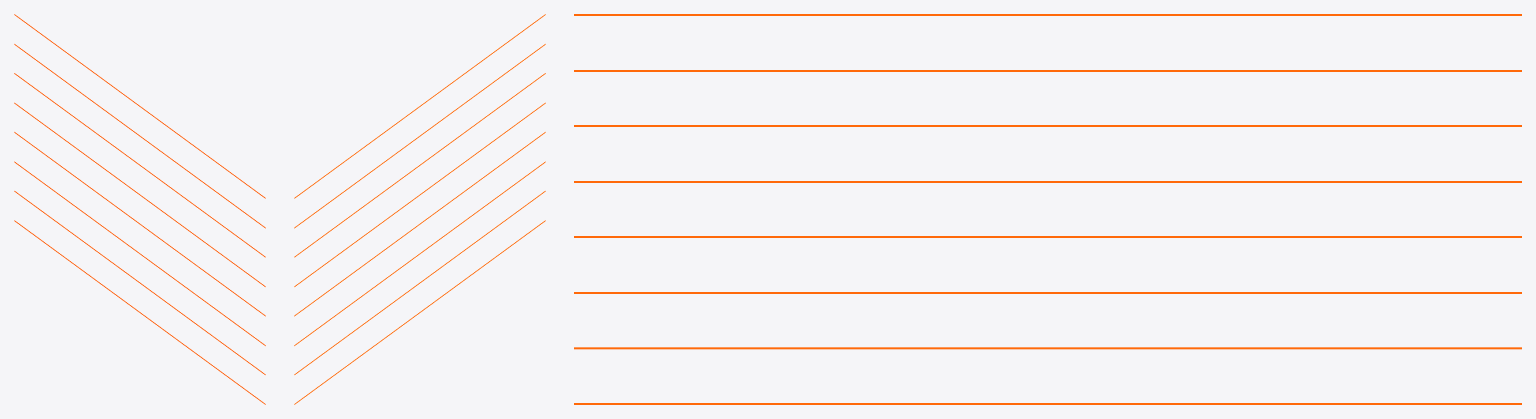
File: Laser_Fence_Ray.FBX
The picture shows the model from 3 angles, left to right: view 1: azimuth 30°, elevation 25°; view 2: azimuth 150°, elevation 25°; view 3: azimuth 270°, elevation 25°; orthographic projection. The views are drawn at different scales.
Parts seen in each view (by area): view 1: Laser_Fence_Ray; view 2: Laser_Fence_Ray; view 3: Laser_Fence_Ray.
Boxes of the visible parts, <box> form: Laser_Fence_Ray: <box>14,14,265,404</box>; Laser_Fence_Ray: <box>294,14,545,404</box>; Laser_Fence_Ray: <box>574,14,1521,404</box>.
Size of the model in its own units: 2.19e-07 by 2.62 by 5.76.
